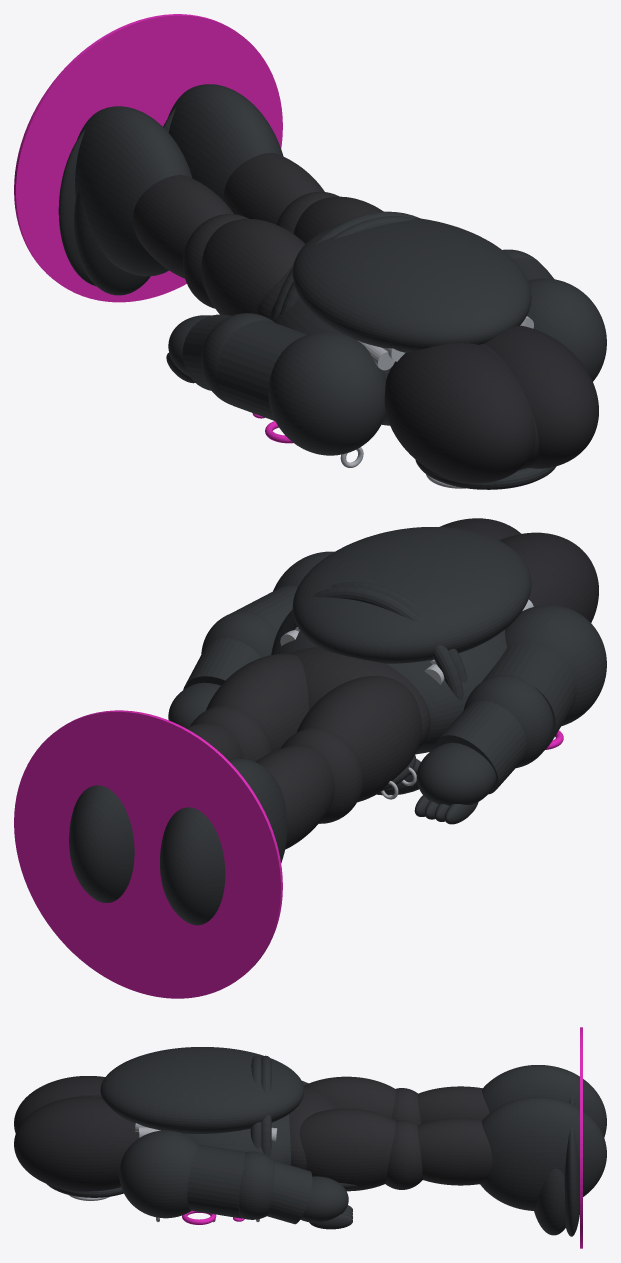
The model's file is LIL_SYNN_3D_Model_Realistic-2.glb.
3 renders of one model, top to bottom at view 1: azimuth 30°, elevation 25°; view 2: azimuth 150°, elevation 25°; view 3: azimuth 270°, elevation 25°, orthographic. The views are drawn at different scales.
Parts seen in each view (by area): view 1: display base, backpack, hood left, L shoulder, L boot upper, hood right, R boot upper, L thigh, L calf, L upper arm, R shoulder, R calf (+12 smaller); view 2: display base, backpack, L thigh, L boot upper, R boot upper, R thigh, L shoulder, hood left, jacket torso, L calf, L forearm, L glove palm (+14 smaller); view 3: backpack, R boot upper, hood right, R thigh, R shoulder, R calf, L boot upper, R upper arm, L thigh, L calf, R forearm, R elbow (+13 smaller).
Part boxes in pixels (x1,y1,x2,y2): display base: [14, 14, 282, 302]; backpack: [292, 218, 531, 352]; hood left: [384, 343, 535, 483]; L shoulder: [268, 331, 385, 455]; L boot upper: [75, 106, 192, 276]; hood right: [484, 325, 598, 468]; R boot upper: [168, 84, 283, 200]; L thigh: [201, 218, 305, 315]; L calf: [133, 175, 233, 278]; L upper arm: [217, 320, 307, 420]; R shoulder: [527, 278, 606, 381]; R calf: [223, 153, 324, 224]; display base: [14, 710, 282, 998]; backpack: [292, 527, 531, 663]; L thigh: [296, 676, 421, 802]; L boot upper: [160, 758, 287, 925]; R boot upper: [69, 785, 134, 902]; R thigh: [206, 653, 308, 751]; L shoulder: [505, 605, 606, 726]; hood left: [500, 532, 598, 622]; jacket torso: [271, 629, 506, 754]; L calf: [256, 745, 334, 849]; L forearm: [435, 701, 526, 794]; L glove palm: [416, 742, 496, 805]; backpack: [100, 1047, 304, 1133]; R boot upper: [480, 1096, 606, 1210]; hood right: [14, 1096, 139, 1191]; R thigh: [299, 1108, 395, 1191]; R shoulder: [119, 1130, 199, 1218]; R calf: [417, 1118, 492, 1185]; L boot upper: [482, 1065, 606, 1137]; R upper arm: [187, 1144, 246, 1218]; L thigh: [304, 1076, 395, 1117]; L calf: [417, 1086, 489, 1124]; R forearm: [267, 1161, 312, 1224]; R elbow: [239, 1151, 274, 1219].
Bounding box in the file's own units: 2.55 × 2 × 5.35.
